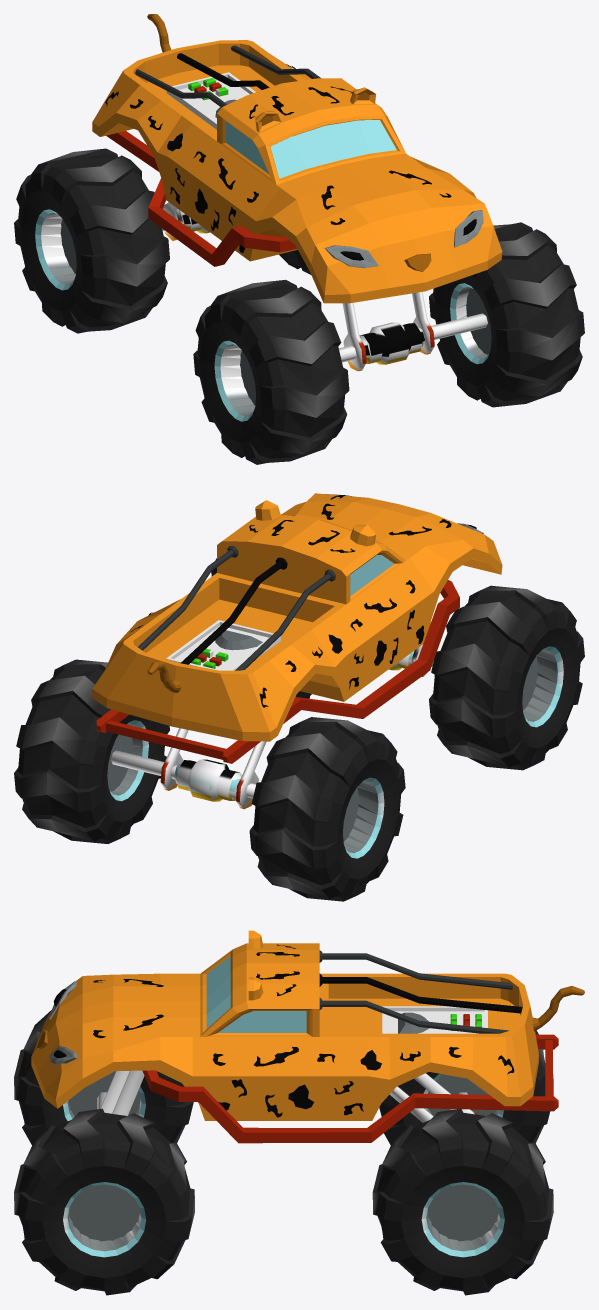
File: Cheetah.fbx
The picture shows the model from 3 angles, top to bottom: view 1: azimuth 30°, elevation 25°; view 2: azimuth 150°, elevation 25°; view 3: azimuth 270°, elevation 25°; orthographic projection.
Visible parts, largest first — view 1: Monster_Truck_Body, Wheel_FR, Wheel_RR, Wheel_FL, Axel Front, Monster_Truck_Livery; view 2: Monster_Truck_Body, Wheel_RR, Wheel_FR, Wheel_RL, Axel Back, Monster_Truck_Livery; view 3: Monster_Truck_Body, Wheel_RL, Wheel_FL, Wheel_FR, Monster_Truck_Livery, Wheel_RR, Axel Front, Axel Back.
Part boxes in pixels (<box>): Monster_Truck_Body: <box>92,40,502,303</box>; Wheel_FR: <box>193,279,349,464</box>; Wheel_RR: <box>14,148,169,333</box>; Wheel_FL: <box>429,222,584,407</box>; Axel Front: <box>339,292,487,371</box>; Monster_Truck_Livery: <box>147,14,483,271</box>; Monster_Truck_Body: <box>92,493,502,763</box>; Wheel_RR: <box>249,717,405,901</box>; Wheel_FR: <box>429,585,584,770</box>; Wheel_RL: <box>14,659,169,843</box>; Axel Back: <box>111,728,266,809</box>; Monster_Truck_Livery: <box>147,494,483,692</box>; Monster_Truck_Body: <box>31,930,558,1143</box>; Wheel_RL: <box>372,1108,553,1295</box>; Wheel_FL: <box>14,1108,194,1295</box>; Wheel_FR: <box>14,1010,193,1145</box>; Monster_Truck_Livery: <box>37,981,584,1065</box>; Wheel_RR: <box>379,1030,553,1145</box>; Axel Front: <box>97,1070,144,1115</box>; Axel Back: <box>390,1073,477,1122</box>.
Bounding box in the file's own units: 485 × 397 × 757.
